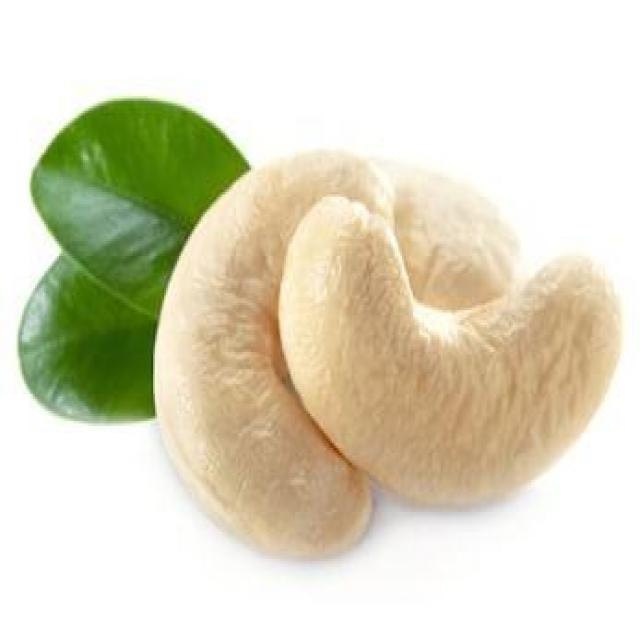Cashew: (319, 207, 616, 502), (202, 179, 322, 545)
